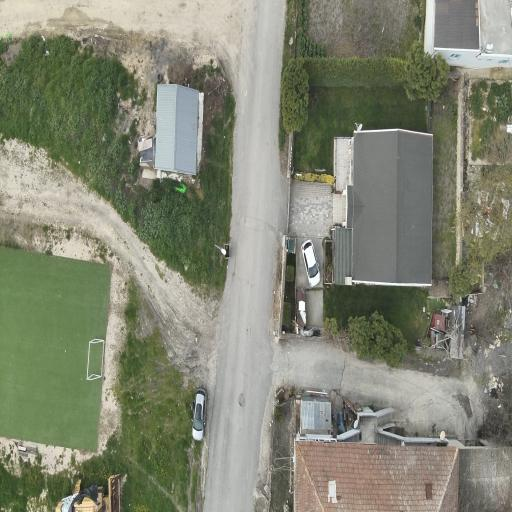car: (302, 239, 320, 285), (193, 387, 206, 439)
harvester: (56, 474, 120, 511)
